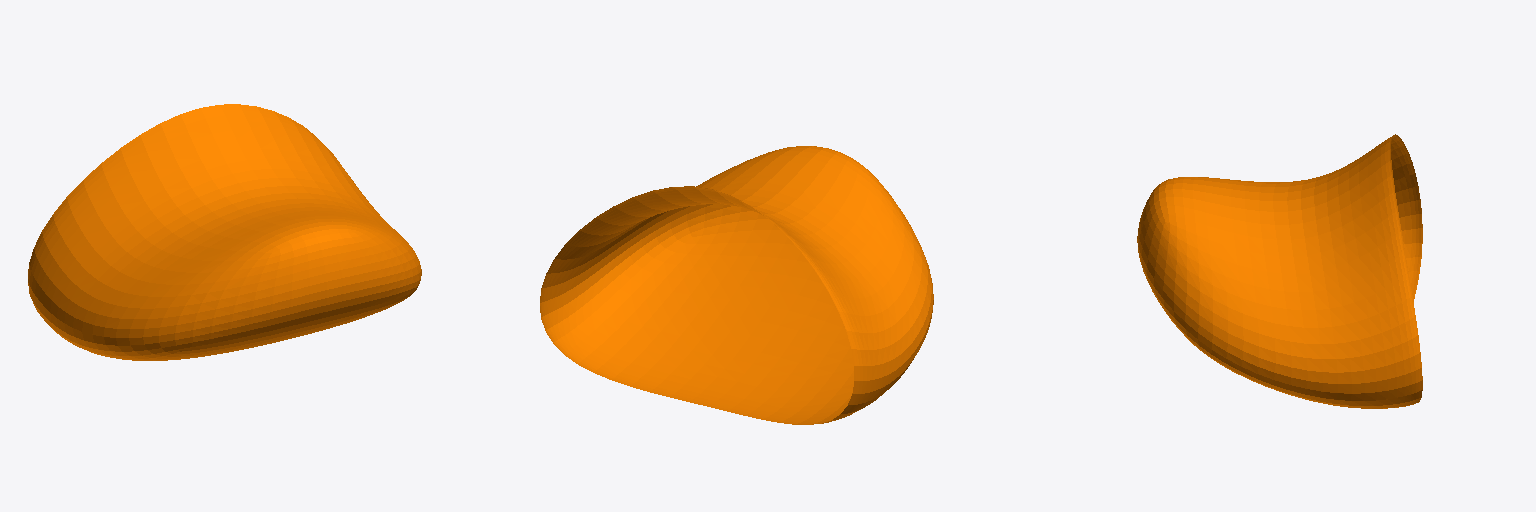
Rendered from duck_2.obj.
The picture shows the model from 3 angles: view 1: azimuth 30°, elevation 25°; view 2: azimuth 150°, elevation 25°; view 3: azimuth 270°, elevation 25°; orthographic projection.
Bounding box in the file's own units: 0.0288 × 0.0181 × 0.0217.